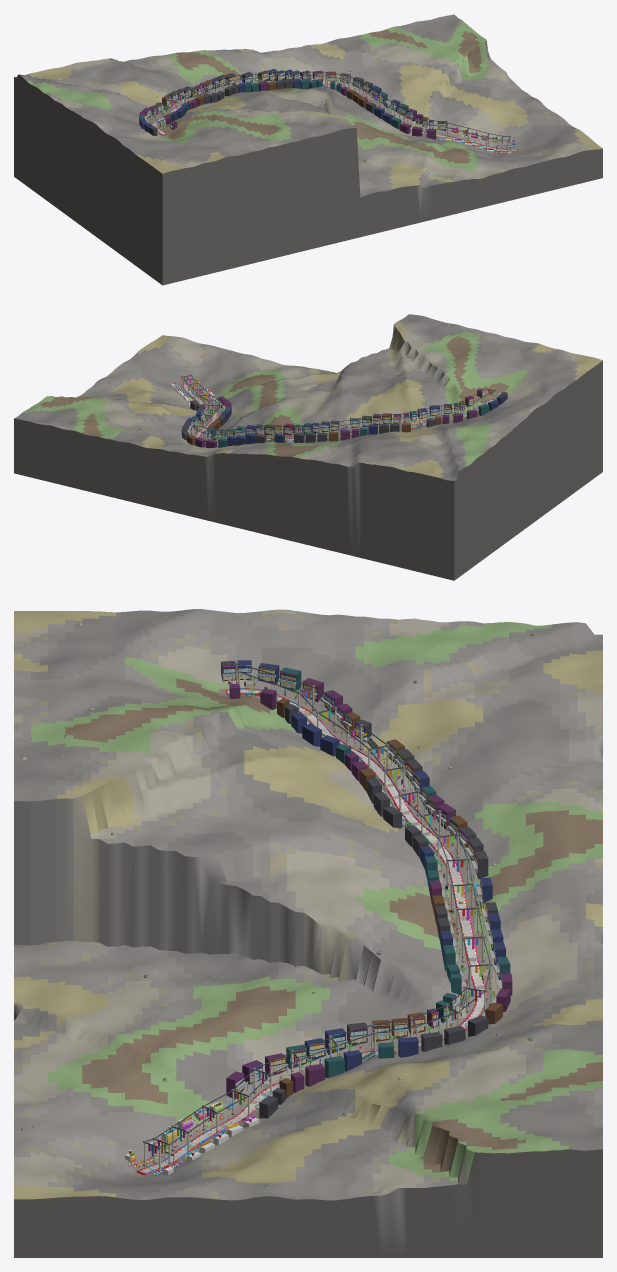
3 renders of one model, top to bottom at view 1: azimuth 30°, elevation 25°; view 2: azimuth 150°, elevation 25°; view 3: azimuth 270°, elevation 25°, orthographic. The views are drawn at different scales.
Parts seen in each view (by area): view 1: grass, buildings, theme; view 2: grass, buildings, theme; view 3: grass, buildings, theme, road, hay.
Part boxes in pixels (x1,y1,x2,y2): grass: [14, 14, 602, 285]; buildings: [139, 69, 516, 154]; theme: [144, 71, 518, 153]; grass: [14, 314, 602, 580]; buildings: [171, 376, 507, 447]; theme: [174, 374, 496, 443]; grass: [14, 609, 602, 1257]; buildings: [125, 660, 512, 1174]; theme: [128, 662, 502, 1175]; road: [141, 689, 484, 1173]; hay: [136, 688, 487, 1175].
Size of the model in its own units: 590 by 145 by 345.
